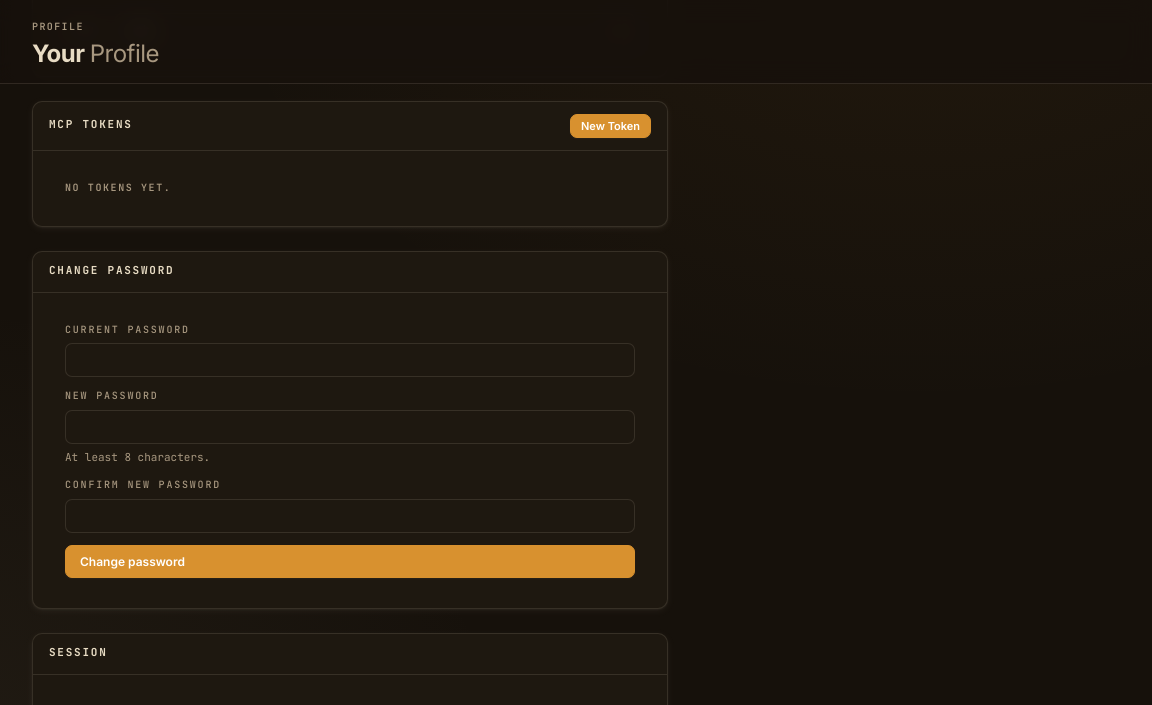
Test case: Profile › confirms on a successful password change
The image size is (1152, 705).
(page scrolled)
Type "secret123" into the password field labelled "Current password".
click(350, 360); type("secret123")  # box left=65, top=343, right=635, bottom=377
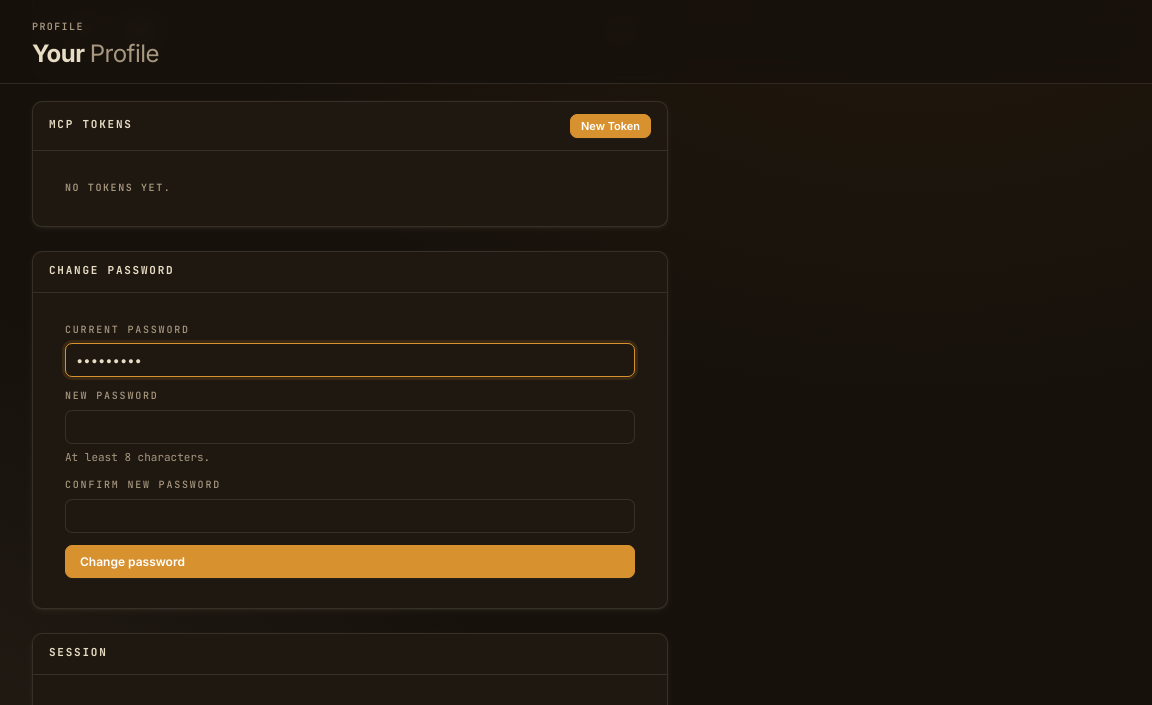
Type "newsecret1" into the password field labelled "New password".
click(350, 427); type("newsecret1")  # box left=65, top=410, right=635, bottom=444
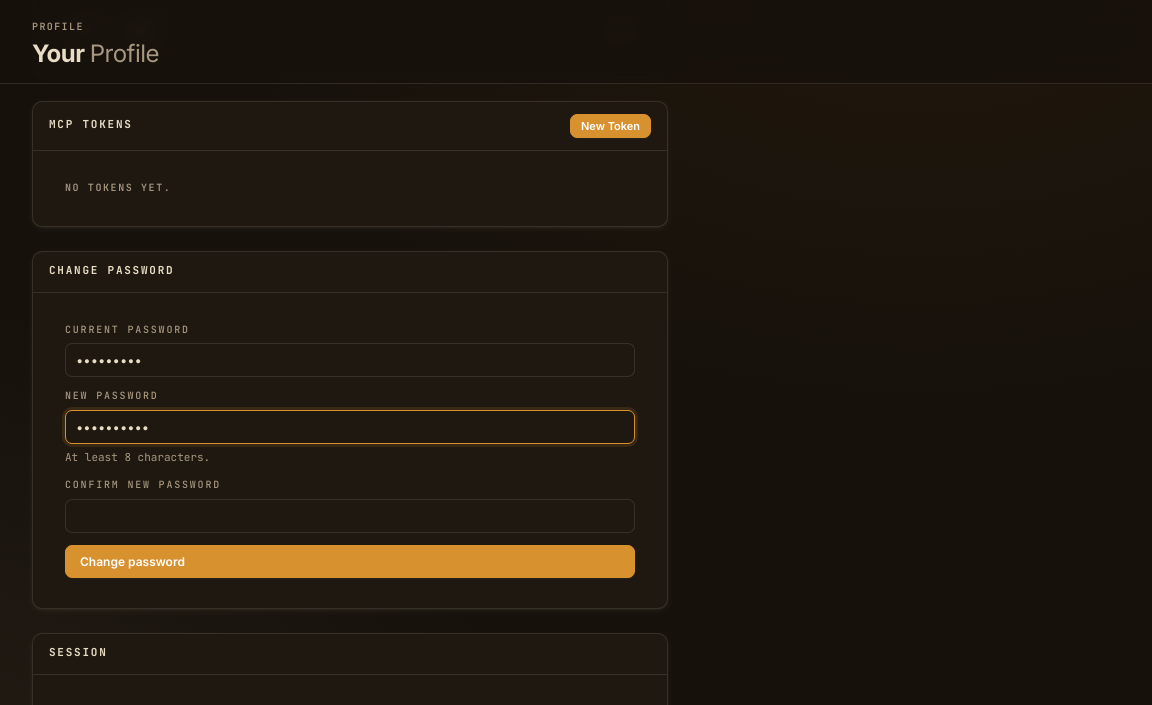
Type "newsecret1" into the password field labelled "Confirm new password".
click(350, 516); type("newsecret1")  # box left=65, top=499, right=635, bottom=533
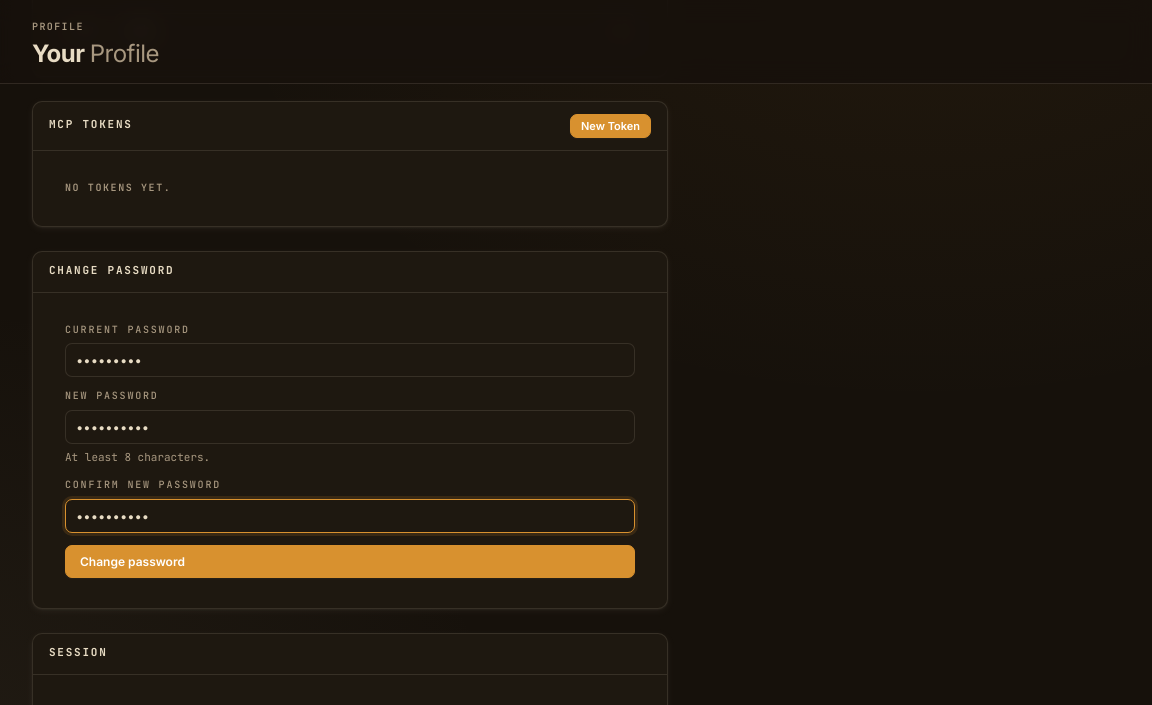
Click the button "Change password".
click(132, 561)  # box left=65, top=545, right=635, bottom=578
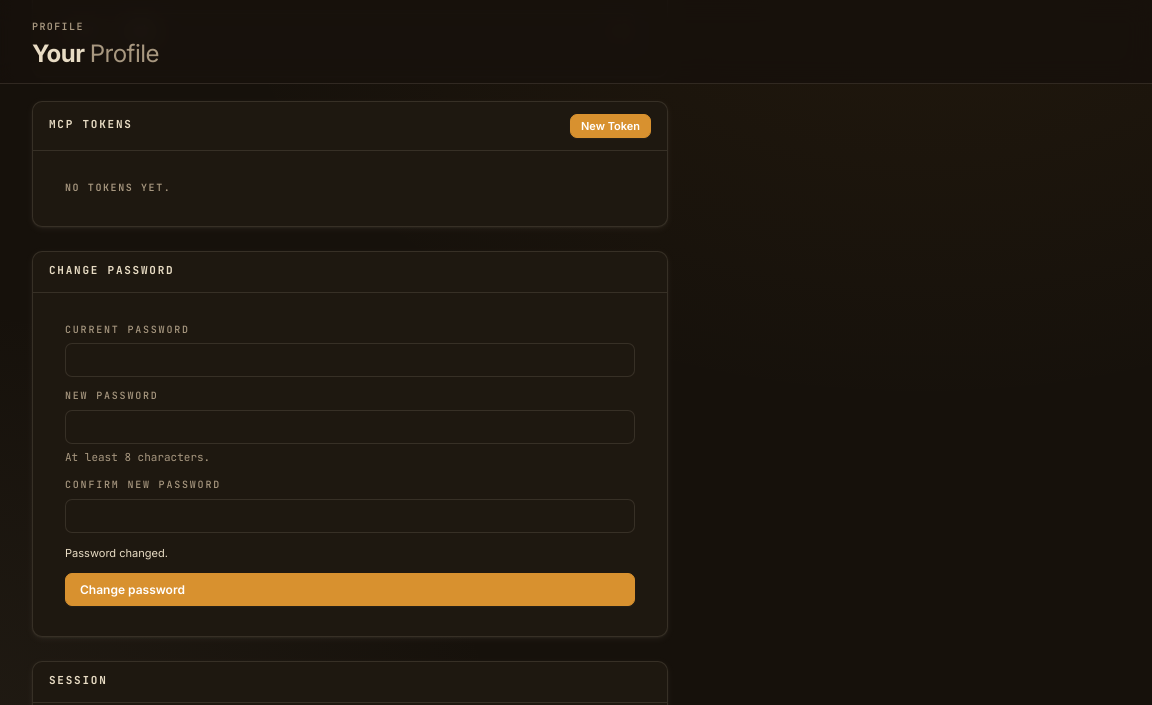
Expected: the text "Password changed." is shown, left=65, top=546, right=168, bottom=560
Expected: the password field labelled "Current password" is empty, left=65, top=343, right=635, bottom=377
Expected: the password field labelled "New password" is empty, left=65, top=410, right=635, bottom=444
